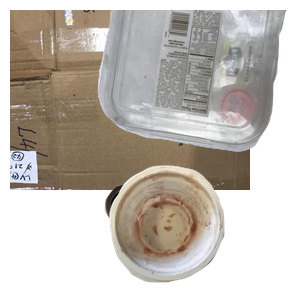cardboard: (10, 10, 250, 190)
glass: (102, 181, 246, 300)
plastic: (95, 10, 300, 154)
trash: (107, 163, 300, 300)
